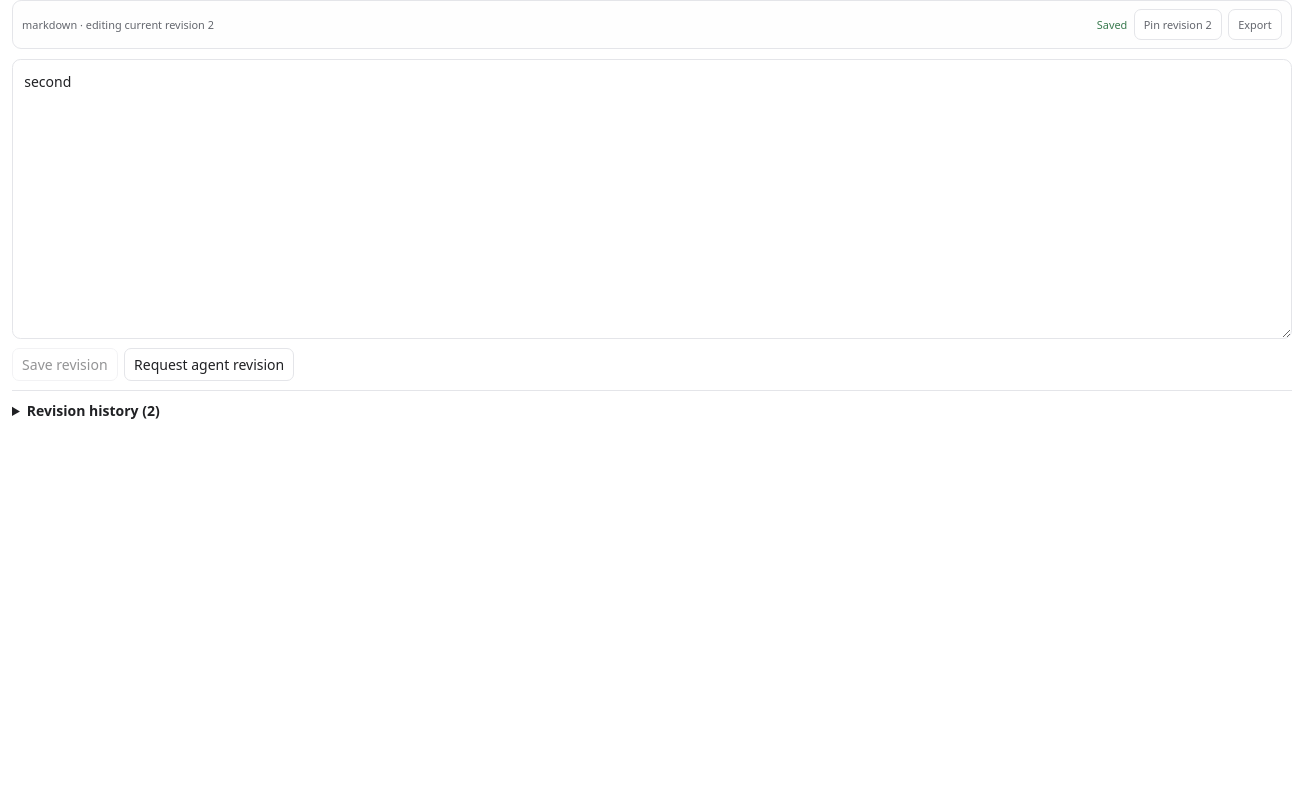
OutputEditor › shows revision history and offers restore
The width and height of the screenshot is (1304, 800).
Click the heading "Revision history (2)" at point(93, 410), box [27,400,160,420]
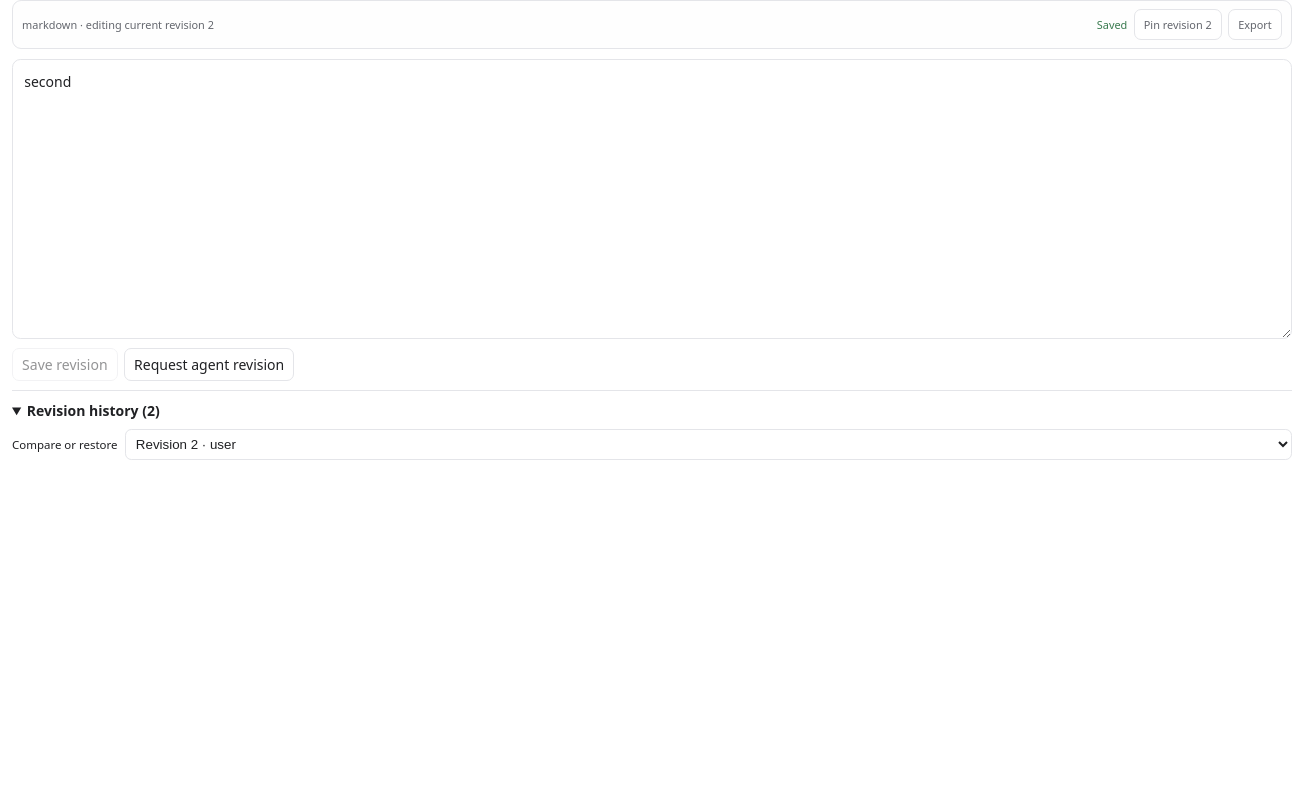
Select "Revision 1 · system" in the dropdown labelled "Compare or restore" at point(708, 444), box [124,429,1292,460]
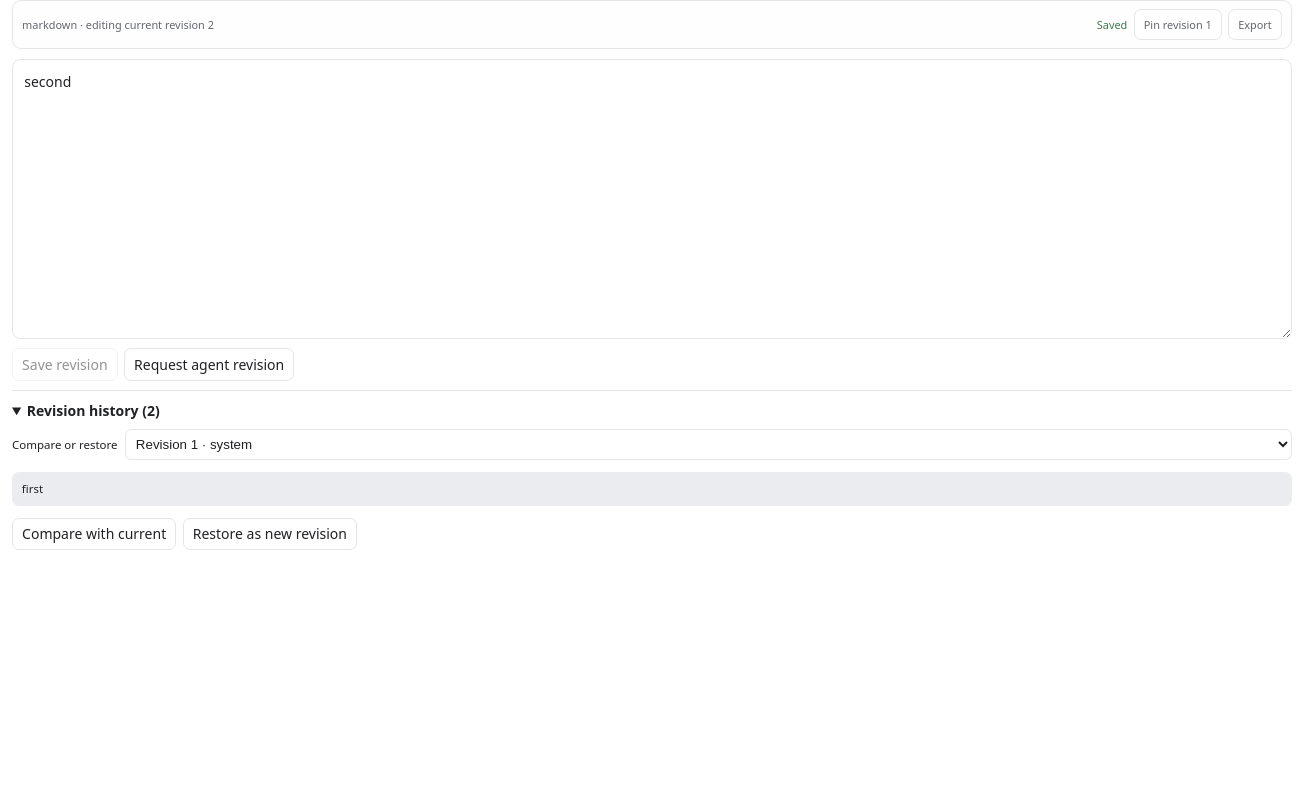
Expected: the button "Restore as new revision" is shown, [183,518,357,550]
